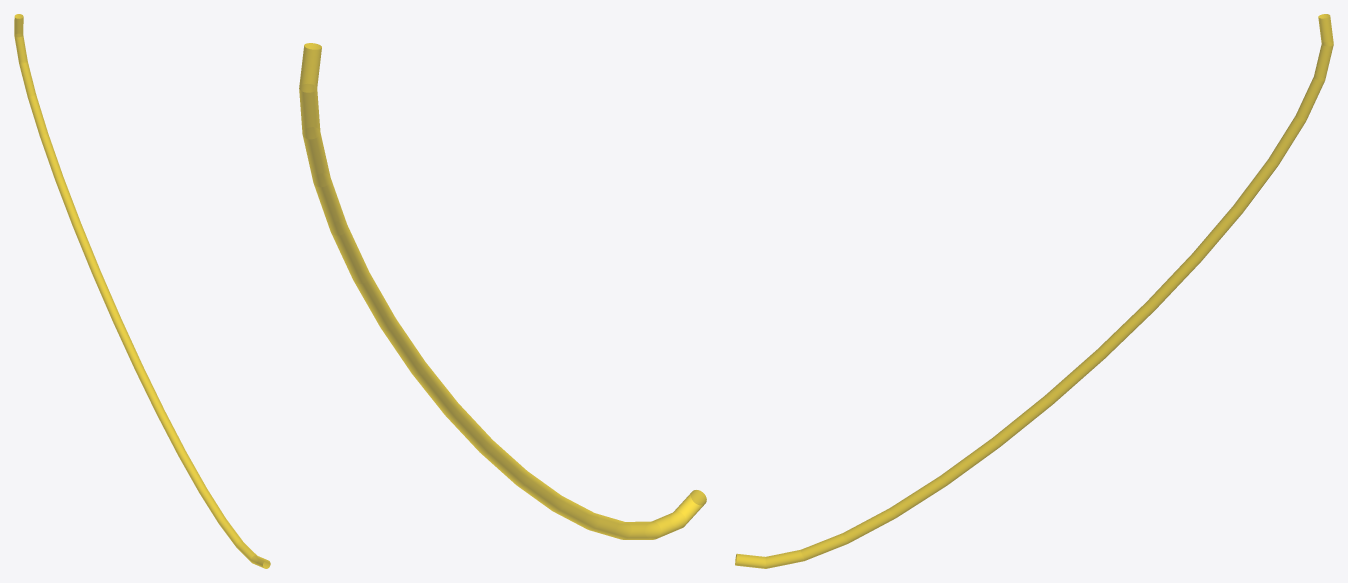
File: Event_15818458_track_15.fbx
3 views of the same model, side by side, from view 1: azimuth 30°, elevation 25°; view 2: azimuth 150°, elevation 25°; view 3: azimuth 270°, elevation 25° (orthographic). The views are drawn at different scales.
Parts seen in each view (by area): view 1: Model; view 2: Model; view 3: Model.
Boxes of the visible parts, left/top/right/bottom form: Model: left=14, top=14, right=270, bottom=568; Model: left=299, top=43, right=706, bottom=539; Model: left=735, top=14, right=1333, bottom=568.
Bounding box in the file's own units: 0.1802 × 1.96 × 1.98.
